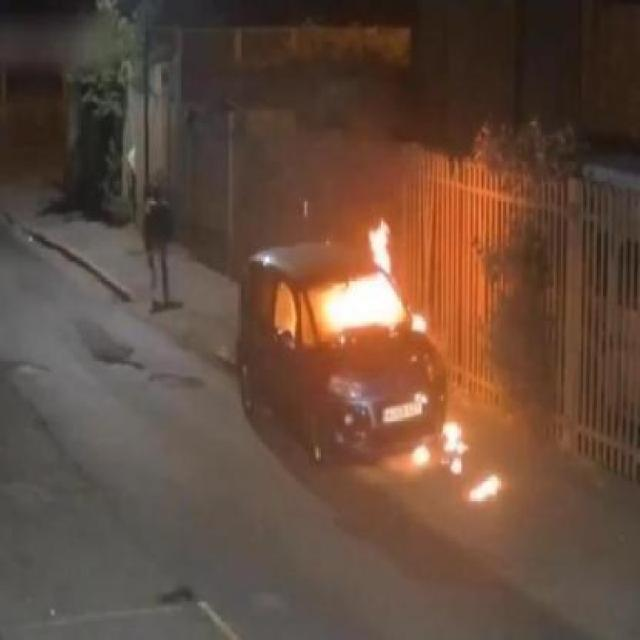Fire: (308, 266, 408, 329), (410, 426, 468, 468), (360, 210, 396, 264), (470, 470, 502, 510)
